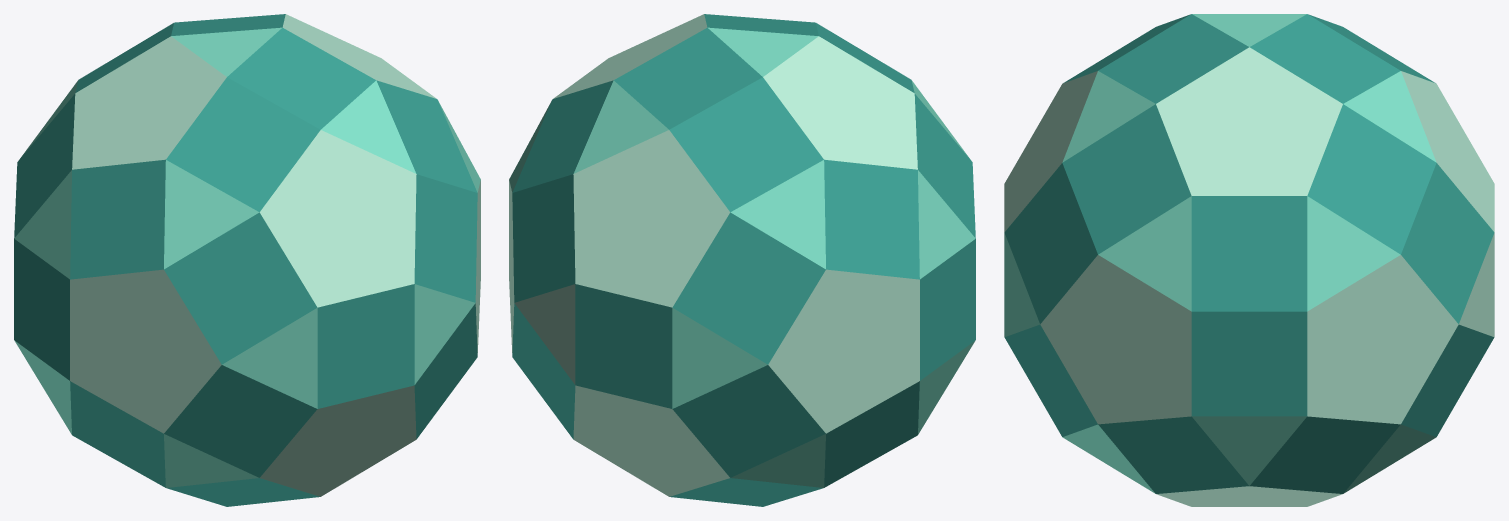
The model's file is J72.RombicosidodecaedroGiroide.gltf.
3 renders of one model, left to right at view 1: azimuth 30°, elevation 25°; view 2: azimuth 150°, elevation 25°; view 3: azimuth 270°, elevation 25°, orthographic. The views are drawn at different scales.
Parts seen in each view (by area): view 1: J72.RombicosidodecaedroGiroide; view 2: J72.RombicosidodecaedroGiroide; view 3: J72.RombicosidodecaedroGiroide.
Boxes of the visible parts, bbox=[...] form: J72.RombicosidodecaedroGiroide: bbox=[14, 14, 480, 506]; J72.RombicosidodecaedroGiroide: bbox=[509, 14, 975, 506]; J72.RombicosidodecaedroGiroide: bbox=[1004, 14, 1494, 506].
Bounding box in the file's own units: 18.97 × 19.35 × 18.97.
